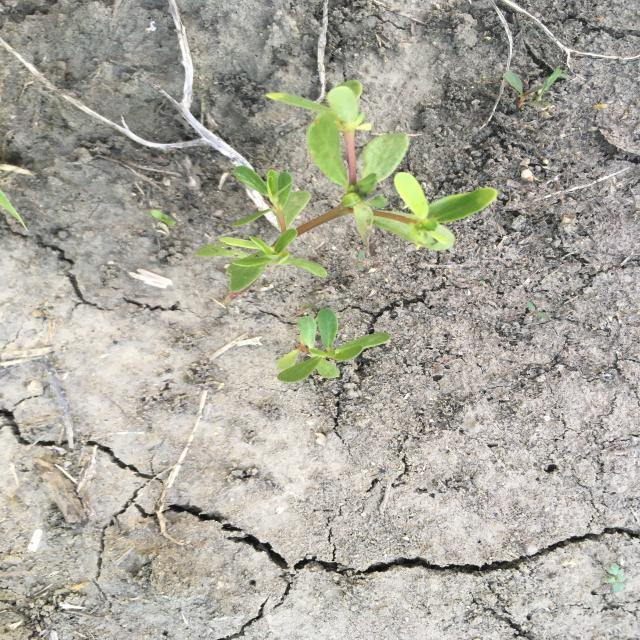Purslane: (192, 78, 500, 308), (274, 307, 392, 384)
